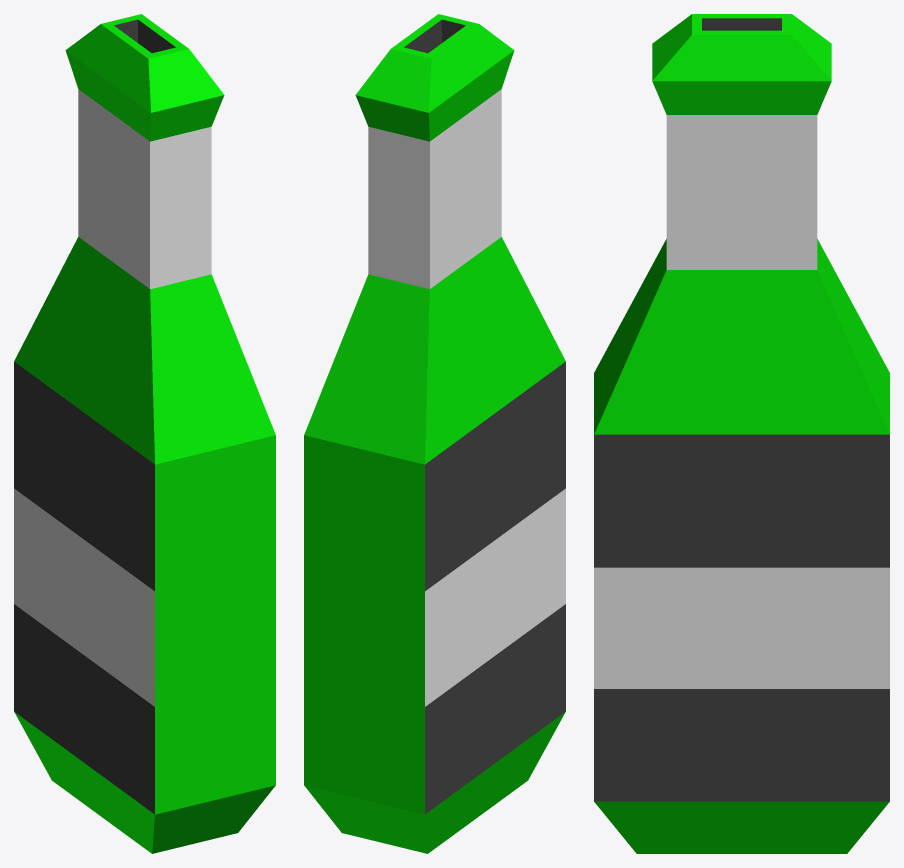
The model's file is Green_bottle_2.fbx.
3 views of the same model, side by side, from view 1: azimuth 30°, elevation 25°; view 2: azimuth 150°, elevation 25°; view 3: azimuth 270°, elevation 25° (orthographic). The views are drawn at different scales.
Visible parts, largest first — view 1: Cube.010; view 2: Cube.010; view 3: Cube.010.
Part boxes in pixels (x1,y1,x2,y2): Cube.010: [14, 14, 275, 853]; Cube.010: [304, 14, 565, 853]; Cube.010: [594, 14, 889, 853].
Size of the model in its own units: 40.66 by 248 by 82.22.
